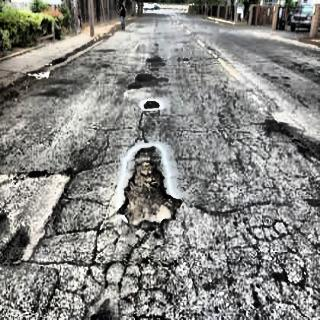alligator-crack: (85, 227, 178, 320)
pothole: (120, 150, 183, 228), (143, 99, 163, 111)
